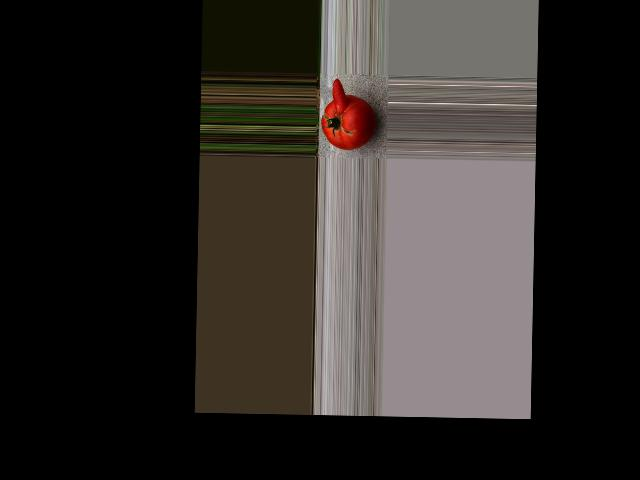tomato: (321, 94, 375, 151)
